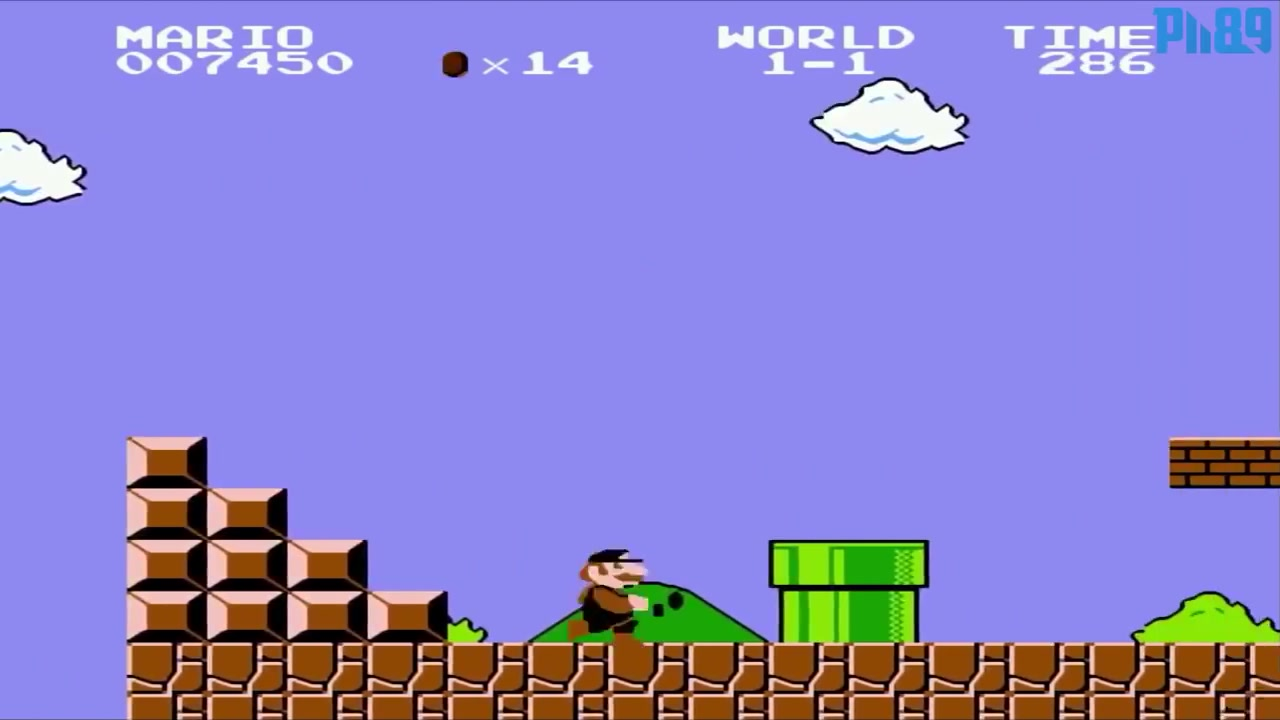mario: (570, 539, 659, 646)
